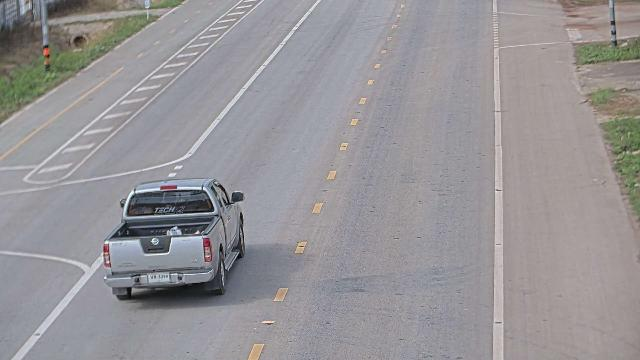pickup-truck: (102, 177, 246, 300)
